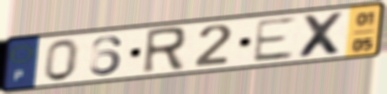0: (41, 37, 82, 84)
2: (193, 23, 236, 69)
6: (89, 34, 125, 77)
E: (250, 15, 298, 64)
R: (139, 25, 189, 76)
X: (296, 10, 348, 60)
